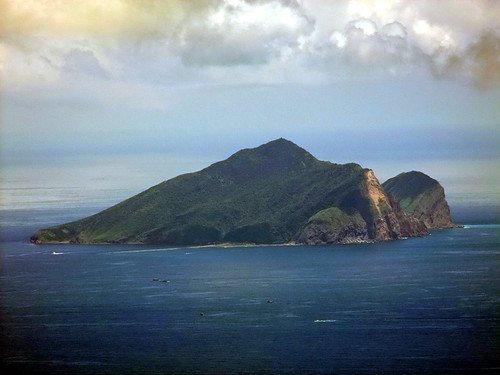turtleIsland: (29, 138, 461, 239)
